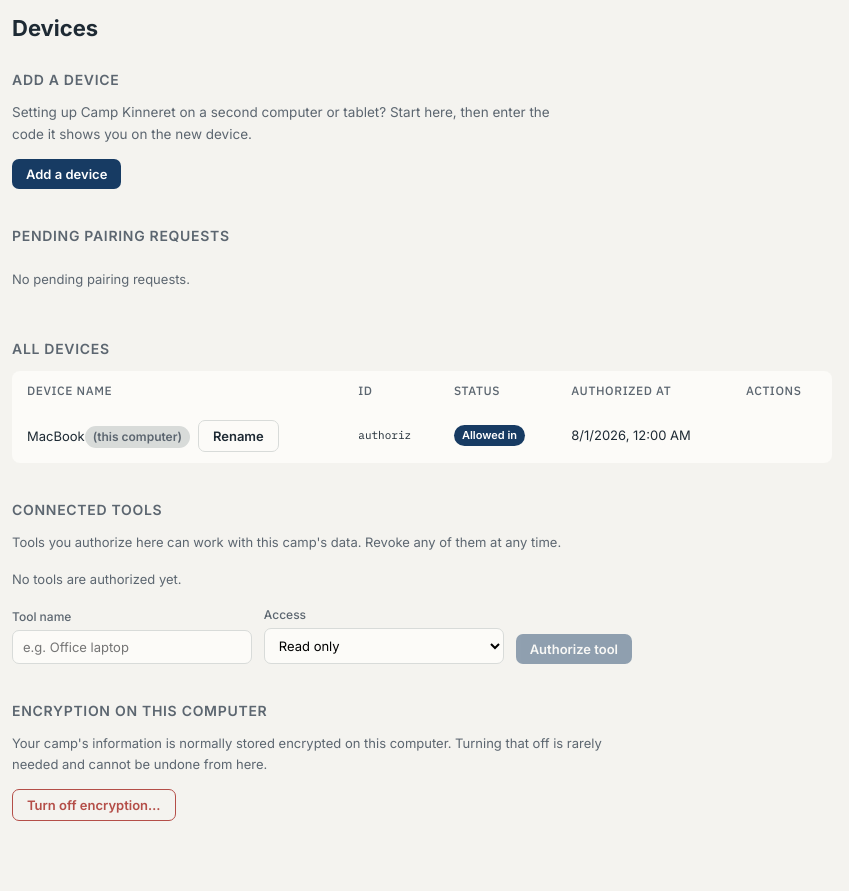
Test: DeviceManagerScreen — rename › shows the refusal instead of failing silently
The image size is (849, 891).
Click the button with aria-label "Rename MacBook" at {"x": 238, "y": 436}, box top-left (198, 420), bottom-right (279, 452)
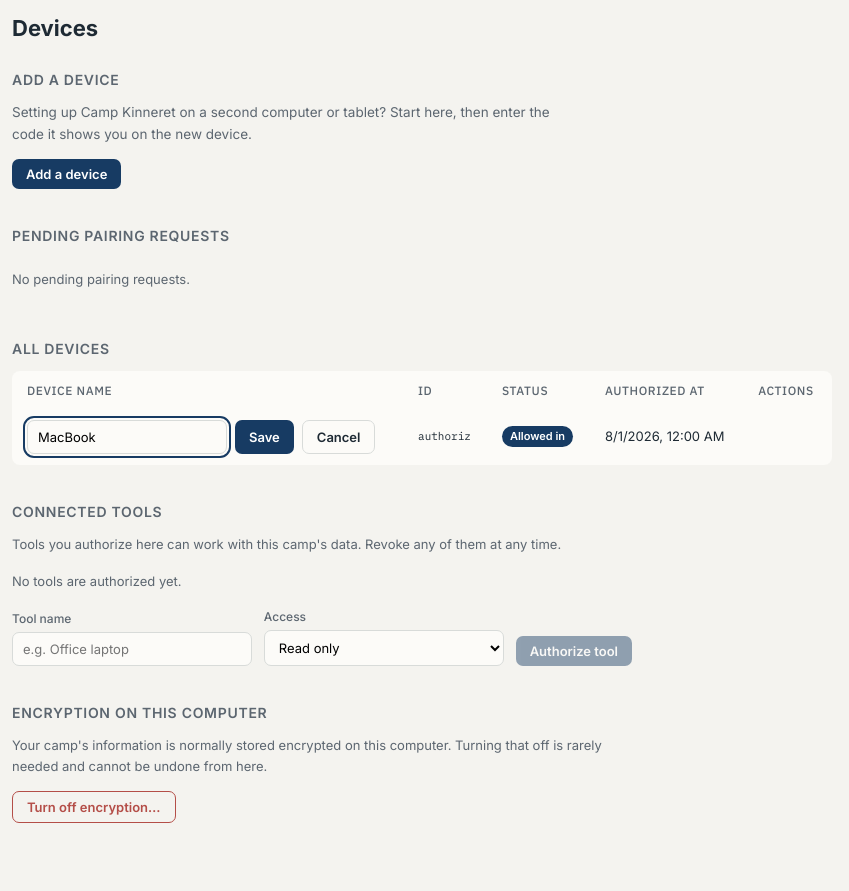
Clear the field named "Device name" at {"x": 127, "y": 437}, box top-left (27, 420), bottom-right (227, 454)
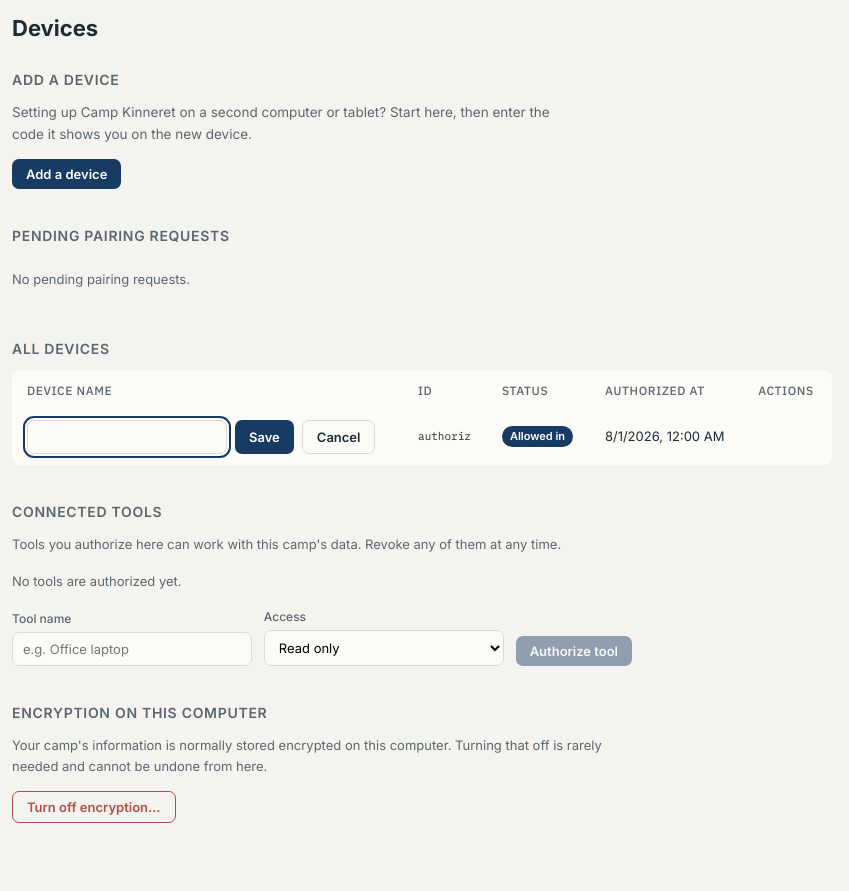
Click the button "Save" at {"x": 264, "y": 437}, box top-left (235, 420), bottom-right (294, 454)
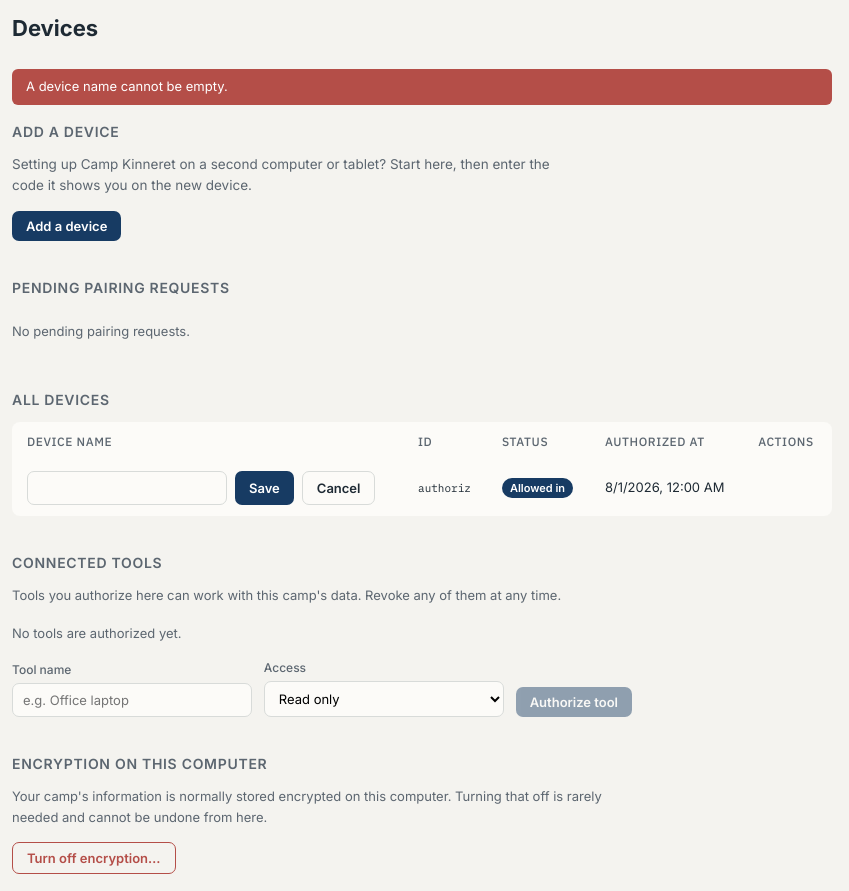
Now the text "A device name cannot be empty." is shown, box top-left (12, 69), bottom-right (832, 104)
